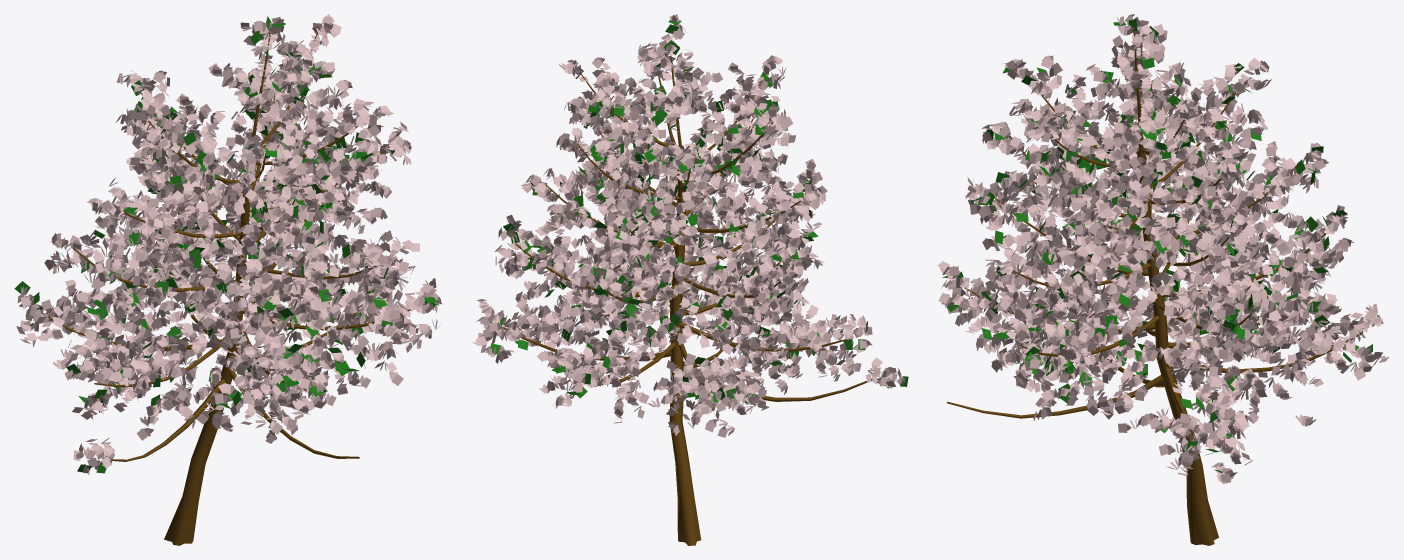
The model's file is tree2.FBX.
3 views of the same model, side by side, from view 1: azimuth 30°, elevation 25°; view 2: azimuth 150°, elevation 25°; view 3: azimuth 270°, elevation 25° (orthographic). The views are drawn at different scales.
Visible parts, largest first — view 1: Foliage001; view 2: Foliage001; view 3: Foliage001.
Part boxes in pixels (bbox=[...]): Foliage001: bbox=[14, 14, 441, 545]; Foliage001: bbox=[472, 14, 908, 545]; Foliage001: bbox=[937, 14, 1389, 545].
Size of the model in its own units: 321 by 409 by 304.
